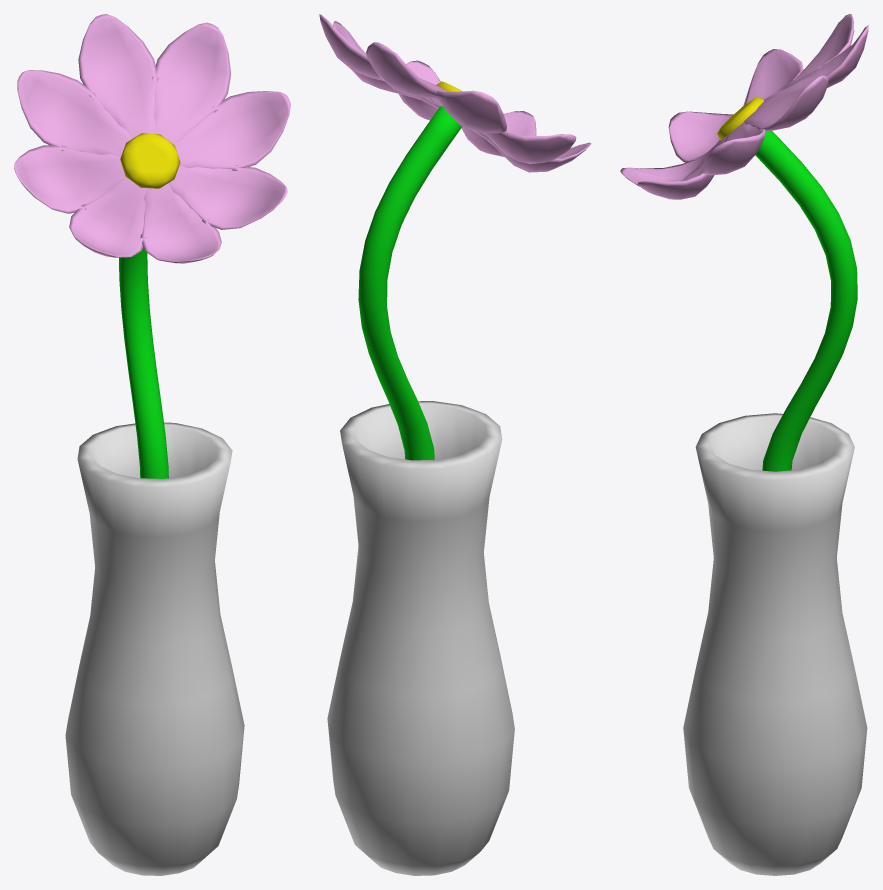
Rendered from SmallFlower.fbx.
The picture shows the model from 3 angles, left to right: view 1: azimuth 30°, elevation 25°; view 2: azimuth 150°, elevation 25°; view 3: azimuth 270°, elevation 25°; orthographic projection. The views are drawn at different scales.
Parts seen in each view (by area): view 1: SmallFlower; view 2: SmallFlower; view 3: SmallFlower.
Boxes of the visible parts, x1=… form: SmallFlower: x1=14, y1=14, x2=290, y2=875; SmallFlower: x1=319, y1=14, x2=591, y2=875; SmallFlower: x1=620, y1=14, x2=868, y2=875.
Bounding box in the file's own units: 0.201 × 0.622 × 0.1695.
